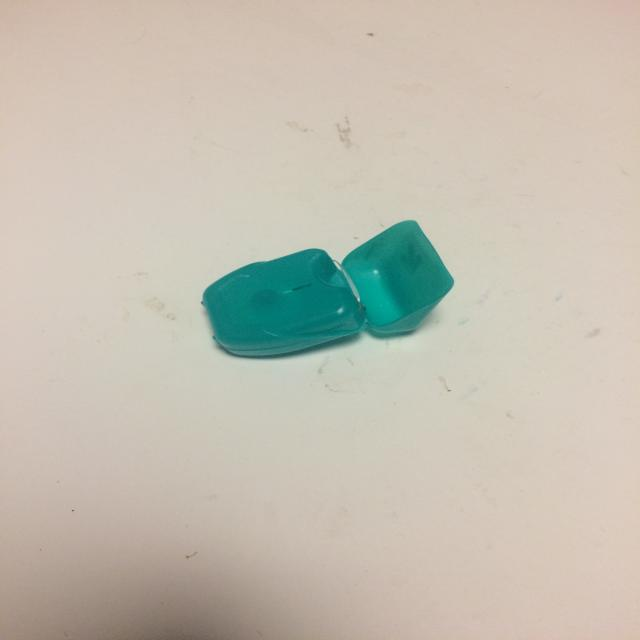Plastic: (169, 205, 481, 409)
